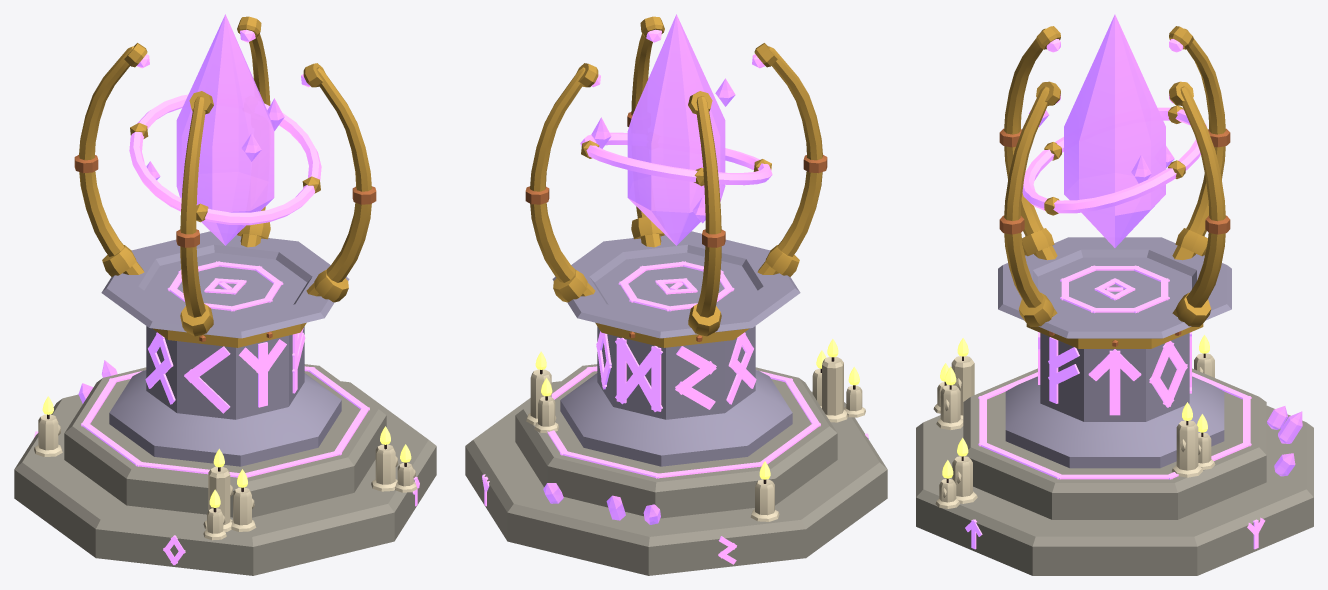
Rendered from prop_arcane_altar.glb.
3 views of the same model, side by side, from view 1: azimuth 30°, elevation 25°; view 2: azimuth 150°, elevation 25°; view 3: azimuth 270°, elevation 25° (orthographic).
Parts seen in each view (by area): view 1: Altar, Crystal; view 2: Altar, Crystal; view 3: Altar, Crystal.
Boxes of the visible parts, x1,y1,x2,y2 form: Altar: (14, 16, 436, 575); Crystal: (129, 14, 321, 245); Altar: (465, 16, 887, 575); Crystal: (580, 14, 772, 245); Altar: (916, 26, 1313, 575); Crystal: (1022, 14, 1207, 247).
Size of what is drawn, in the model's own units: 1.6 by 2.12 by 1.6.
